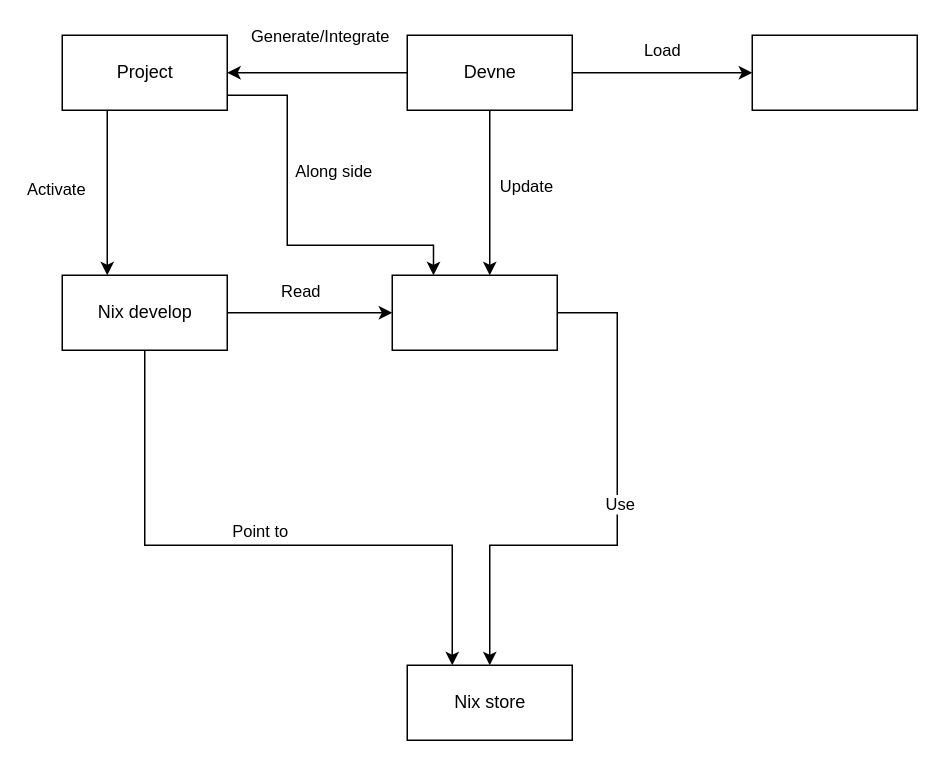
Image size: 944x767. Some labels were removed from this diagram. Here are the shapes that lost their labels. From the top down, the centre of each, then its label:
pixel 834 72: Template Store
pixel 474 312: Devne Config
